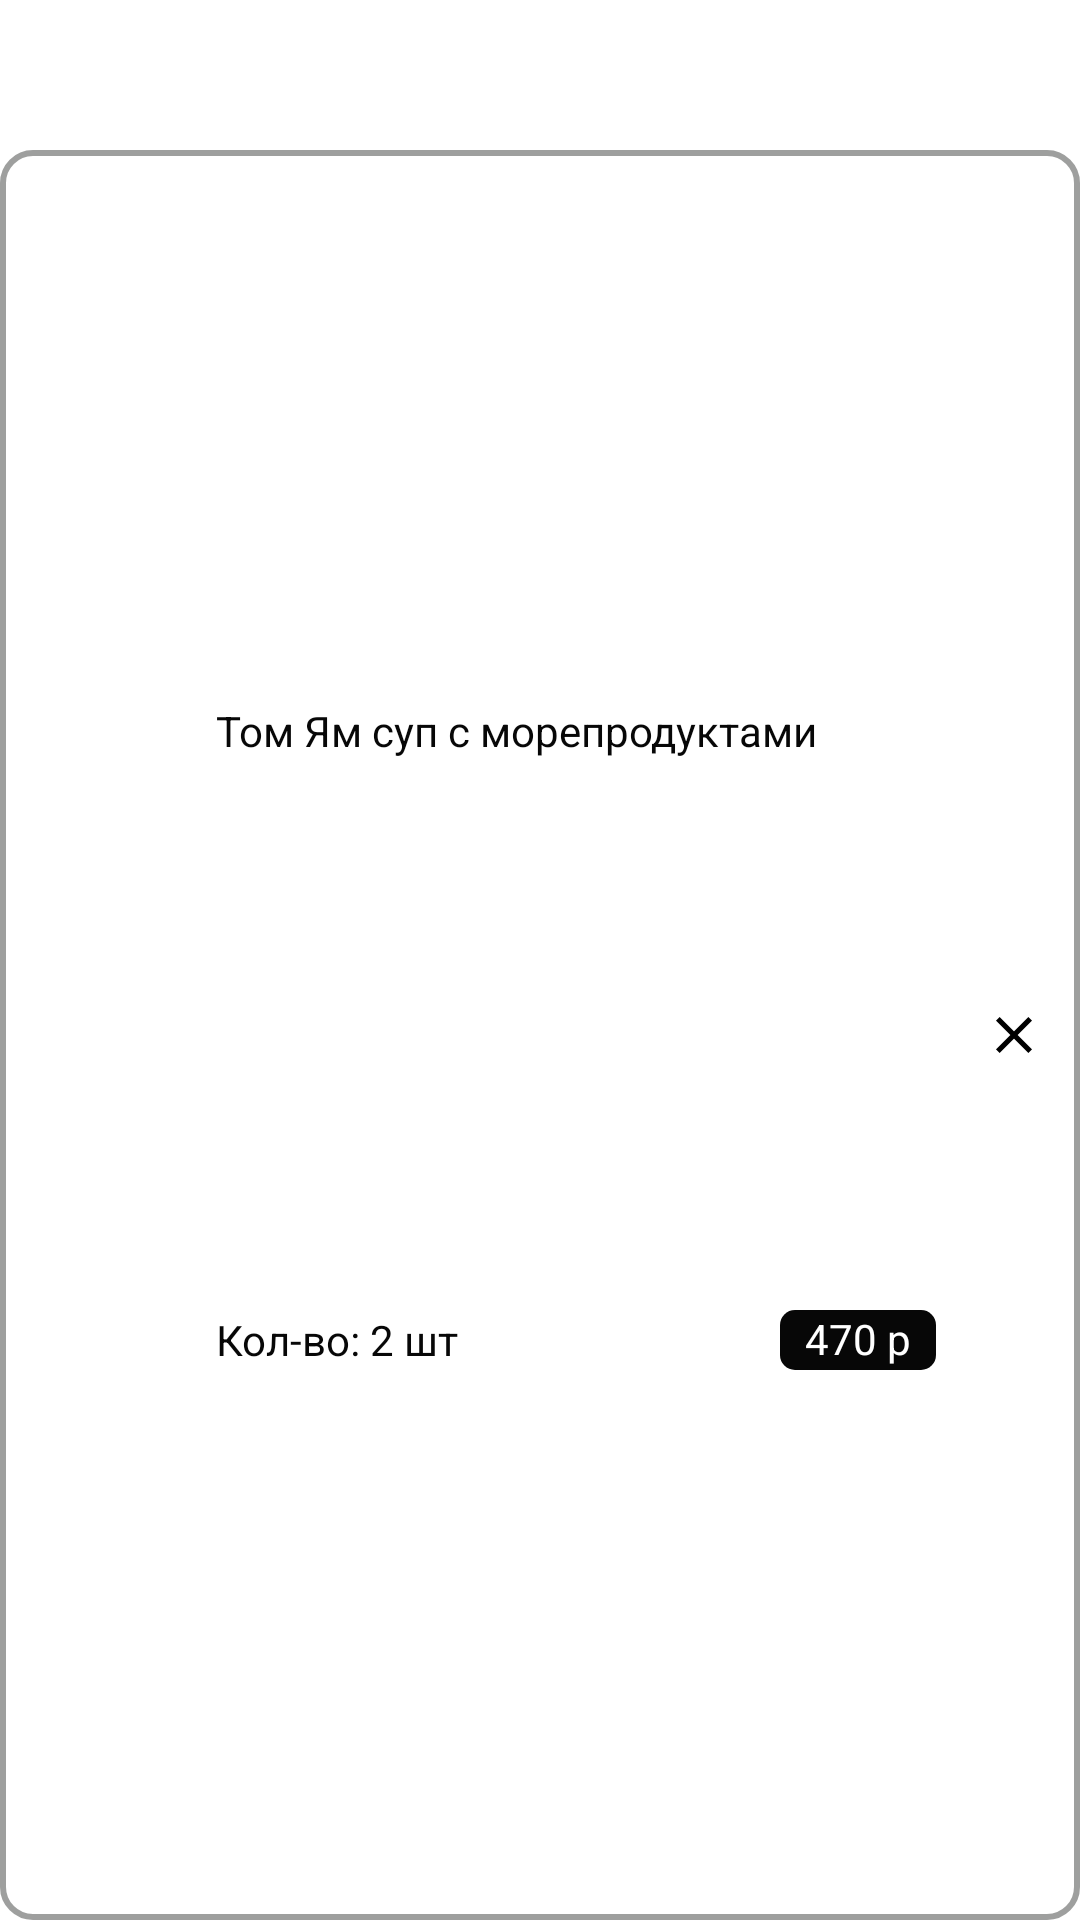

Locate icon controls on the screen. Image size 1080 × 1920, boxes as (x1, y1, x2, y2).
close: (996, 1017, 1032, 1053)
